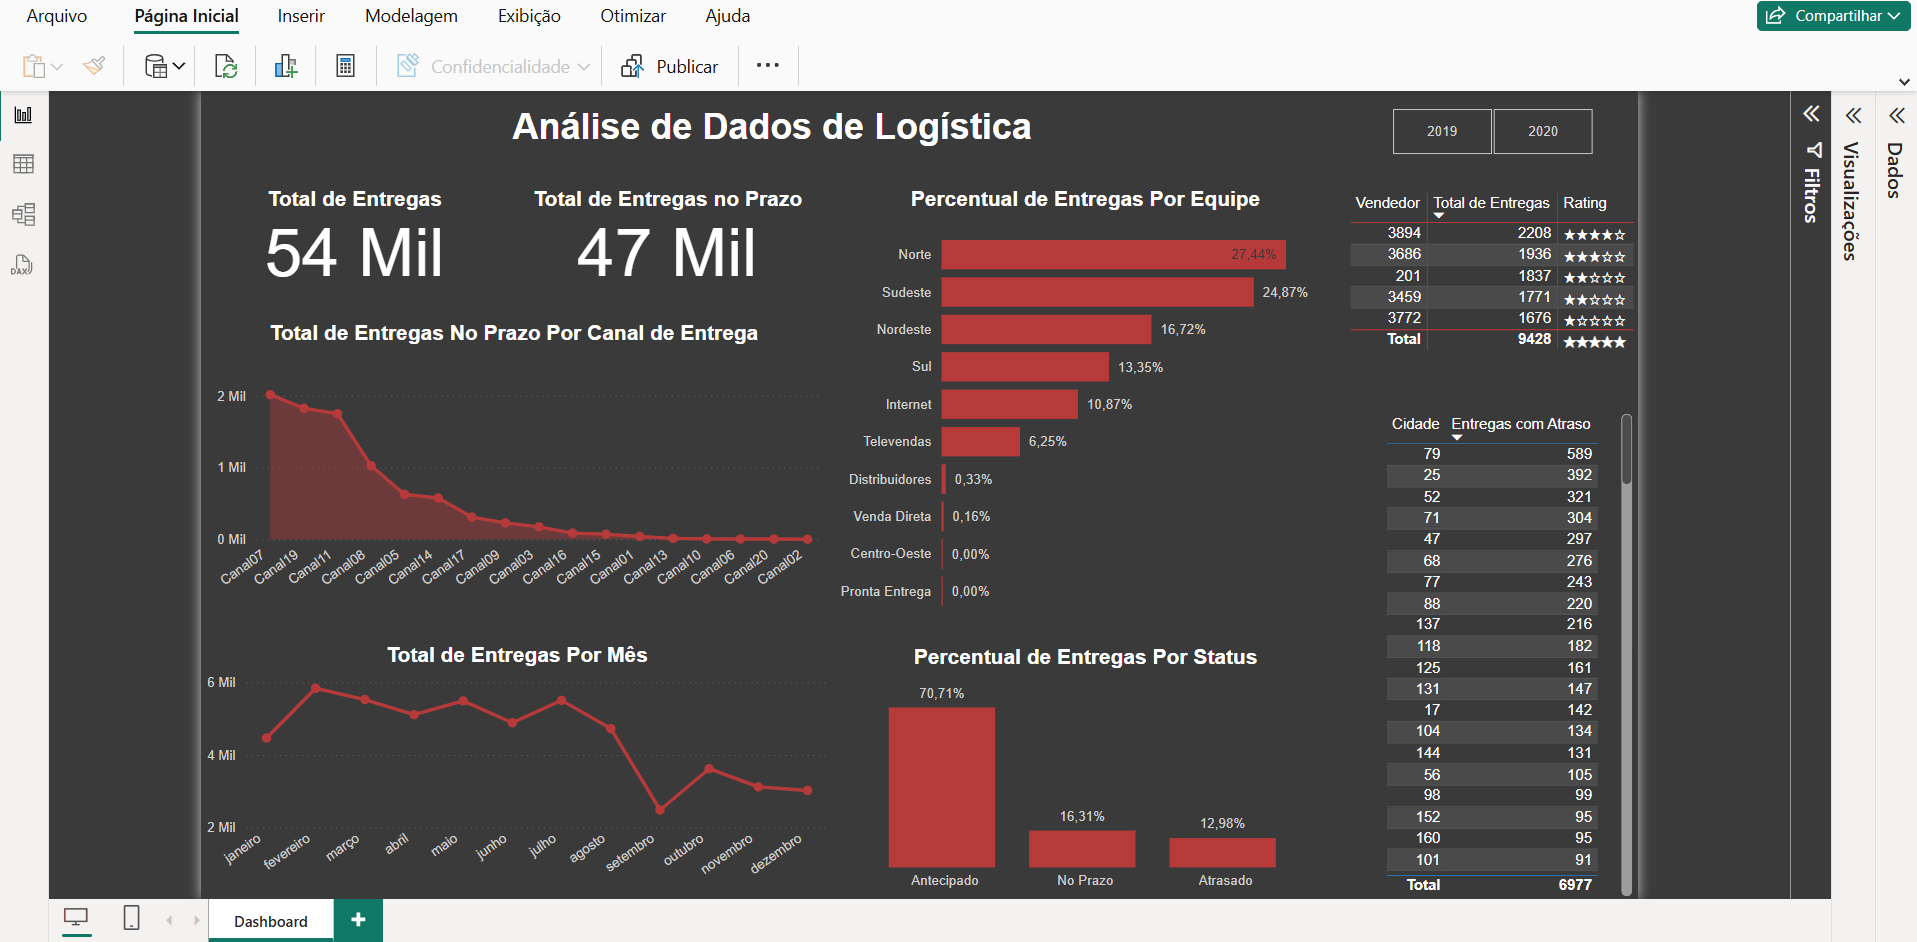

This screenshot's page, from the dashboard's own definition file:
{"tool":"powerbi","page":{"name":"Dashboard","canvas":[1280,720],"ordinal":0},"visuals":[{"type":"areaChart","title":"Total de Entregas No Prazo Por Canal de Entrega","fields":{"Category":["Logistica.Canal_Entrega"],"Y":["Medidas.TotalEntregas"]},"box":[0,204.3,557.3,255.7],"z":0},{"type":"clusteredBarChart","title":"Percentual de Entregas Por Equipe","fields":{"Category":["Logistica.Equipe_Entrega"],"Y":["Medidas.TotalEntregas"]},"box":[557.3,86.2,460,391.9],"z":1000},{"type":"lineChart","title":"Total de Entregas Por Mês","fields":{"Category":["Logistica.Data_Entrega_Realizada.Variation.Hierarquia de datas.Mês"],"Y":["Medidas.TotalEntregas"]},"box":[0,492,562.9,227.9],"z":2000},{"type":"tableEx","fields":{"Values":["Logistica.ID_Vendedor","Medidas.TotalEntregas","Medidas.Classificação por estrelas TotalEntregas"]},"box":[1017.3,86.2,264.1,196],"z":3000},{"type":"columnChart","title":"Percentual de Entregas Por Status","fields":{"Category":["Logistica.Status_Entrega"],"Y":["Medidas.TotalEntregas"]},"box":[557.3,493.4,460,226.5],"z":4000},{"type":"tableEx","fields":{"Values":["Logistica.ID_Cidade","Medidas.TotalEntregas"]},"box":[1049.9,282.2,229.5,439],"z":5000},{"type":"slicer","fields":{"Values":["Logistica.Data_Entrega_Realizada.Variation.Hierarquia de datas.Ano"]},"box":[1034.8,8.8,228.3,53.9],"z":6000},{"type":"card","title":"Total de Entregas","fields":{"Values":["Medidas.TotalEntregas"]},"box":[0,86.2,273.8,86.2],"z":7000},{"type":"textbox","box":[0,8.8,1017.3,53.9],"z":8000},{"type":"card","title":"Total de Entregas no Prazo","fields":{"Values":["Medidas.TotalEntregaPrazo"]},"box":[273.8,86.2,283.5,86.2],"z":9000}]}

Visuals, with their boxes on the page's 1280x720 design canvas (x1, y1, x2, y2). These are canvas units, not pixel positions in the 1917x942 screenshot, which may show the page scaled, cropped or inside an application window:
"Total de Entregas No Prazo Por Canal de Entrega" areaChart: bbox=(0, 204, 557, 460)
"Percentual de Entregas Por Equipe" clusteredBarChart: bbox=(557, 86, 1017, 478)
"Total de Entregas Por Mês" lineChart: bbox=(0, 492, 563, 720)
tableEx - Logistica.ID_Vendedor x Medidas.TotalEntregas: bbox=(1017, 86, 1281, 282)
"Percentual de Entregas Por Status" columnChart: bbox=(557, 493, 1017, 720)
tableEx - Logistica.ID_Cidade x Medidas.TotalEntregas: bbox=(1050, 282, 1279, 721)
slicer - Logistica.Data_Entrega_Realizada.Variation.Hierarquia de datas.Ano: bbox=(1035, 9, 1263, 63)
"Total de Entregas" card: bbox=(0, 86, 274, 172)
textbox: bbox=(0, 9, 1017, 63)
"Total de Entregas no Prazo" card: bbox=(274, 86, 557, 172)
